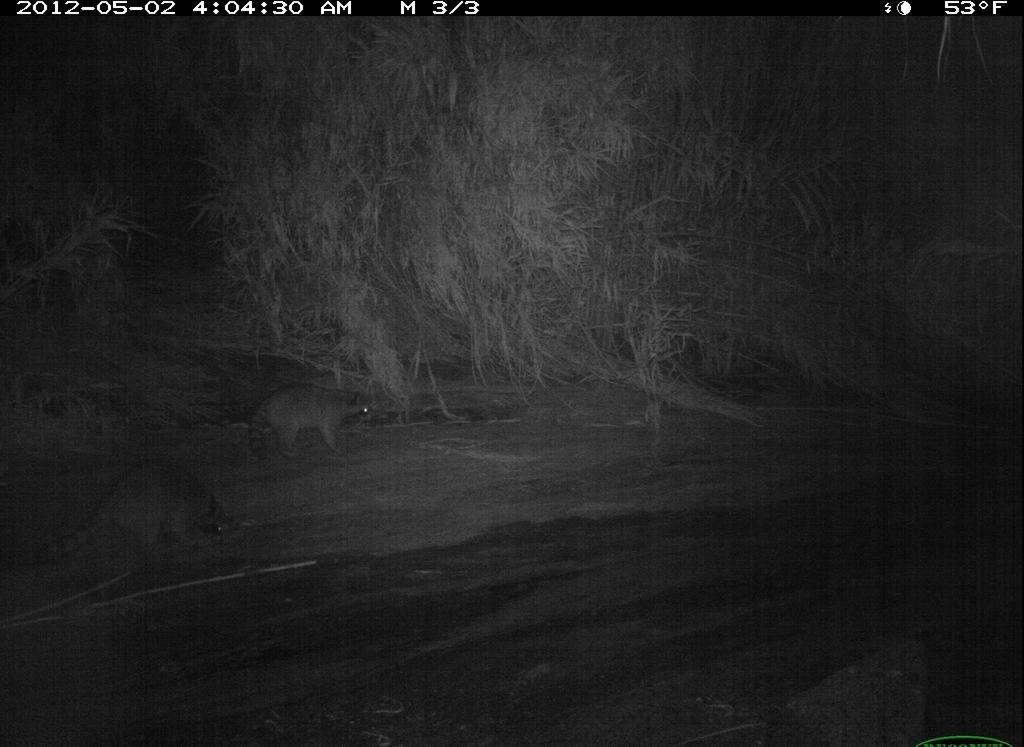raccoon: (31, 440, 254, 589), (216, 354, 406, 466)
